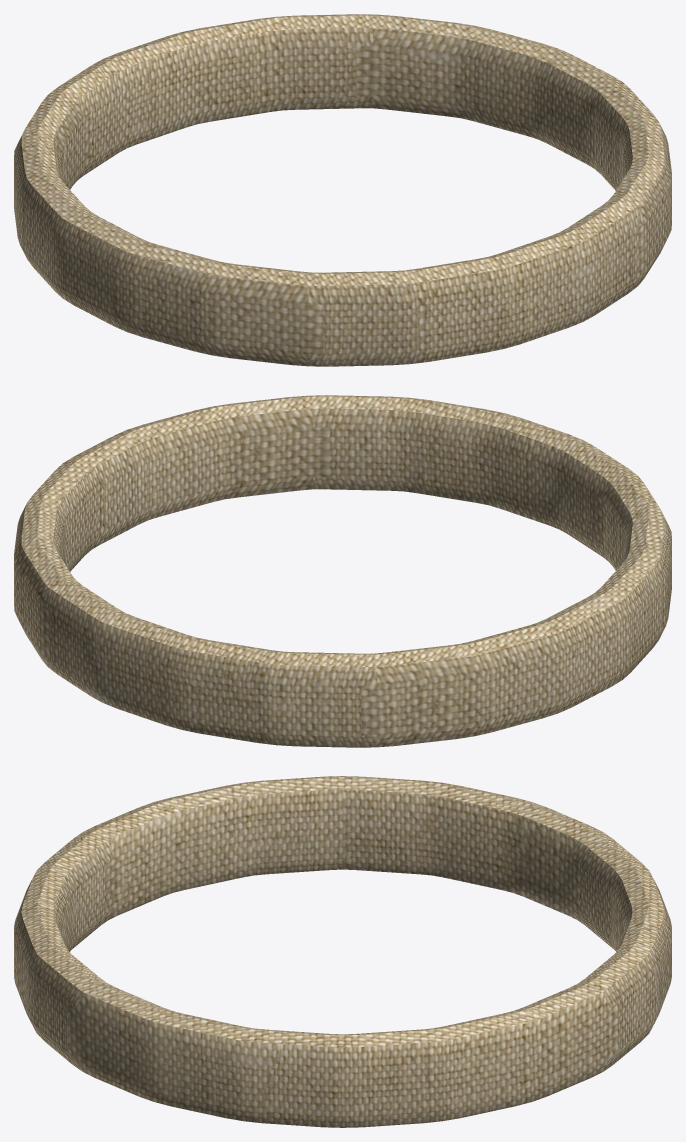
The model's file is HammockRing2.fbx.
3 renders of one model, top to bottom at view 1: azimuth 30°, elevation 25°; view 2: azimuth 150°, elevation 25°; view 3: azimuth 270°, elevation 25°, orthographic.
Visible parts, largest first — view 1: polySurface83; view 2: polySurface83; view 3: polySurface83.
Boxes of the visible parts, x1,y1,x2,y2 form: polySurface83: (14,14,671,366); polySurface83: (14,395,671,747); polySurface83: (14,776,671,1127).
Bounding box in the file's own units: 0.00792 × 0.00121 × 0.00792.
Materials: 1 (1 with a texture image).
